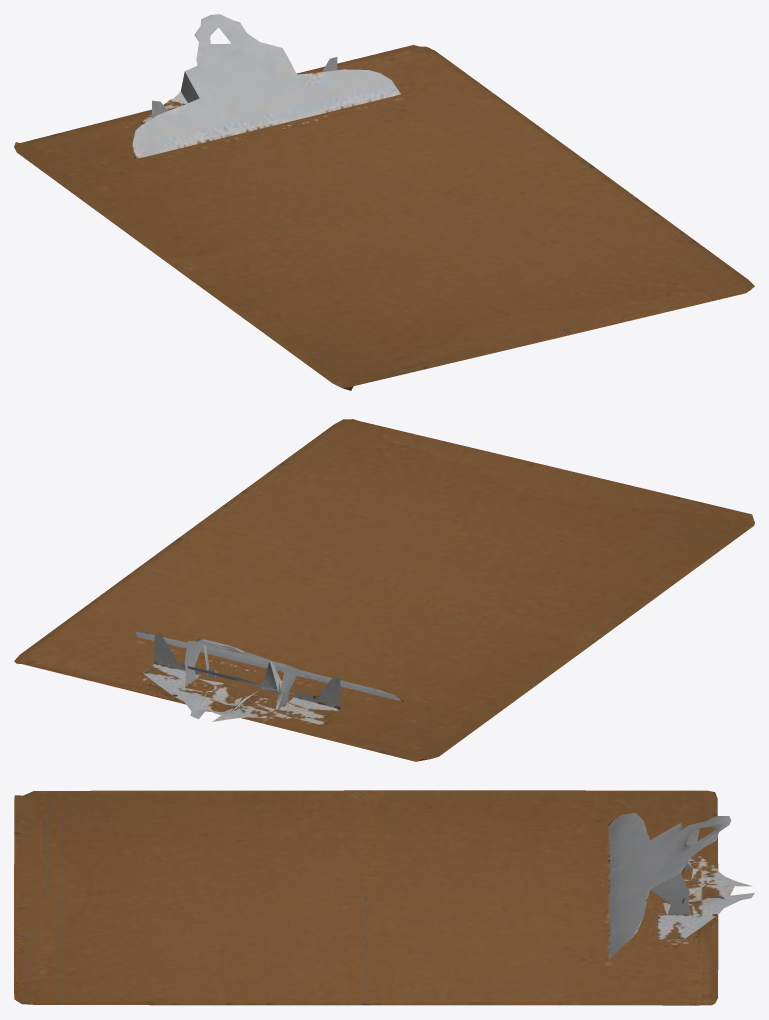
Rendered from clipboard.glb.
3 views of the same model, one above another, from view 1: azimuth 30°, elevation 25°; view 2: azimuth 150°, elevation 25°; view 3: azimuth 270°, elevation 25° (orthographic). The views are drawn at different scales.
Visible parts, largest first — view 1: mesh; view 2: mesh; view 3: mesh.
Boxes of the visible parts, bbox=[...] form: mesh: bbox=[14, 14, 754, 390]; mesh: bbox=[14, 419, 754, 761]; mesh: bbox=[14, 790, 754, 1005].
Size of the model in its own units: 0.2246 by 0.04 by 0.3278.
1 material, 1 textured.
